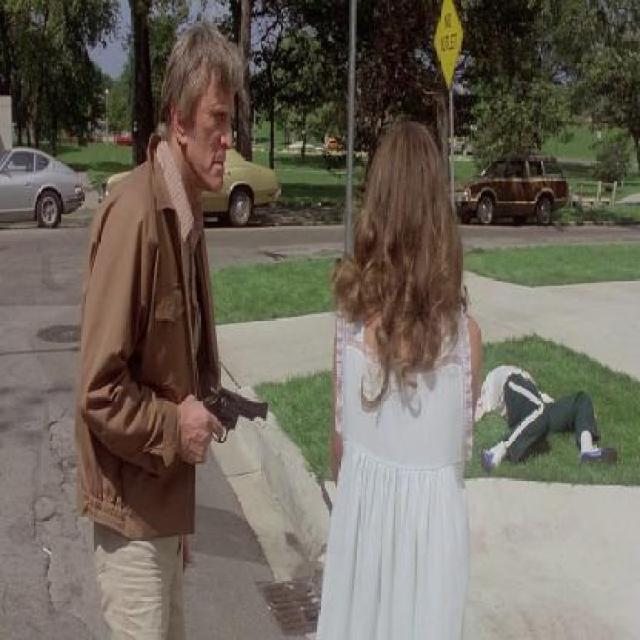gun: (207, 360, 281, 456)
